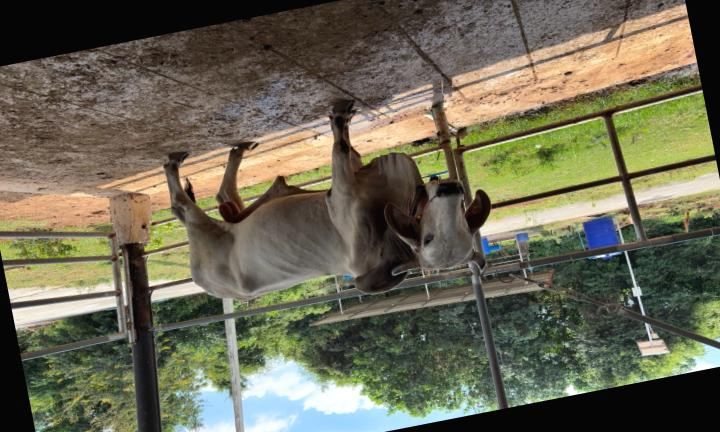Brahman: (163, 101, 490, 300)
